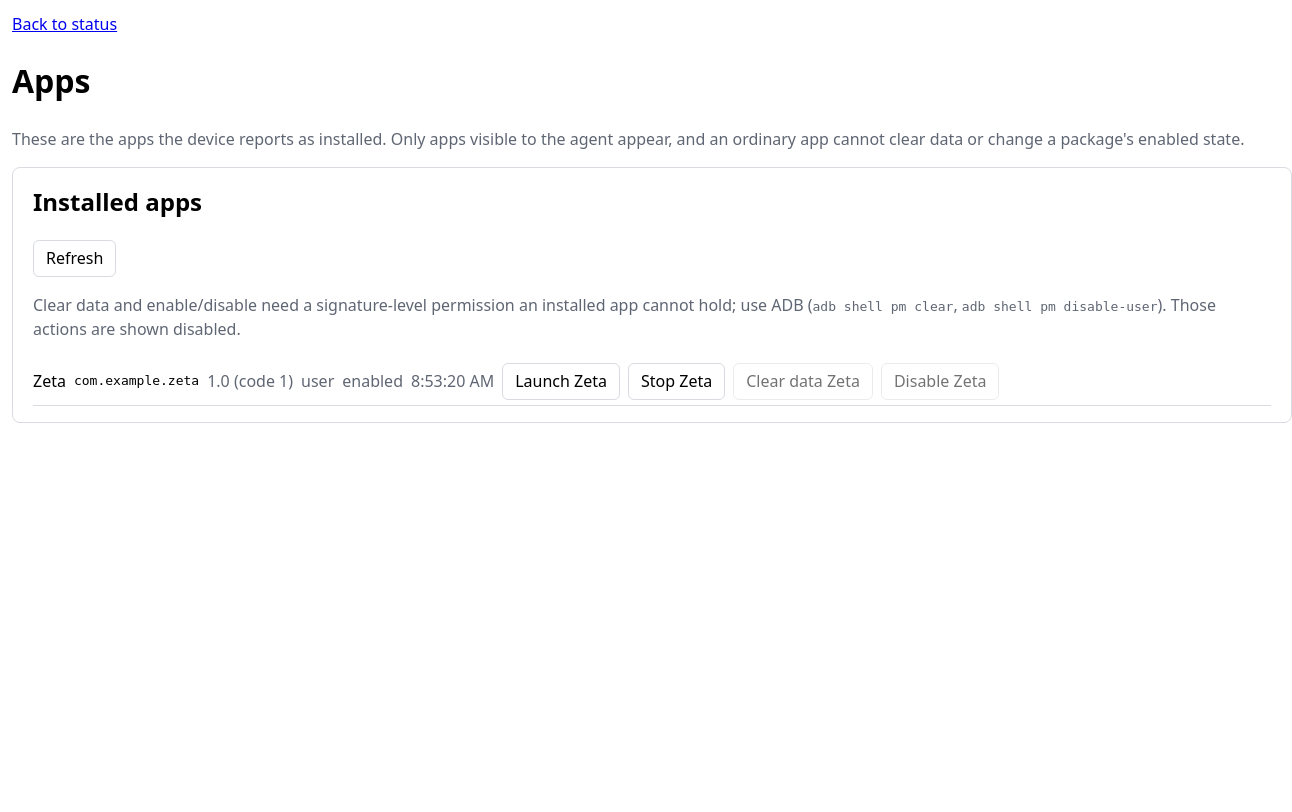
Test case: the apps screen › reports a launch whose answer does not confirm the start as no success
Click the button "Launch Zeta" at (561, 381), box [502,363,620,400]
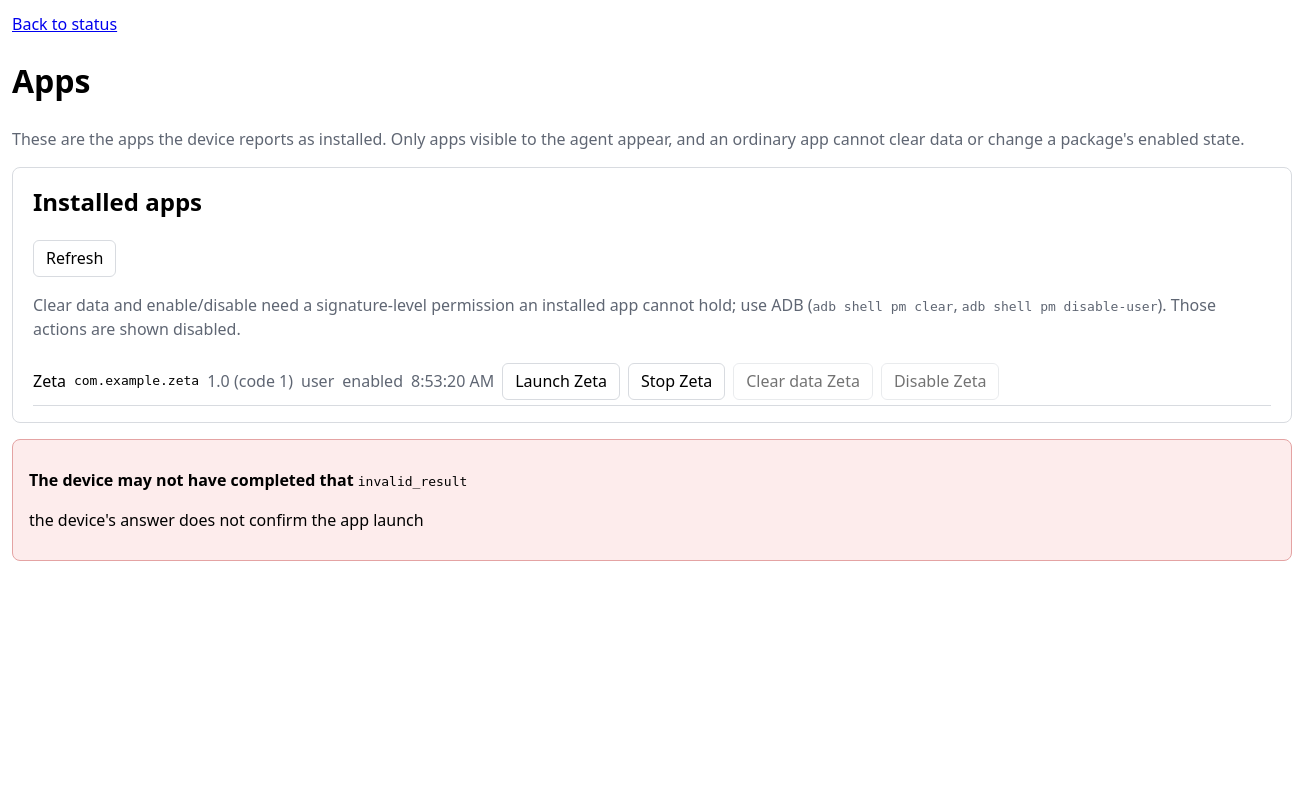
Check: the message shows "invalid_result", box [358,474,467,489]
